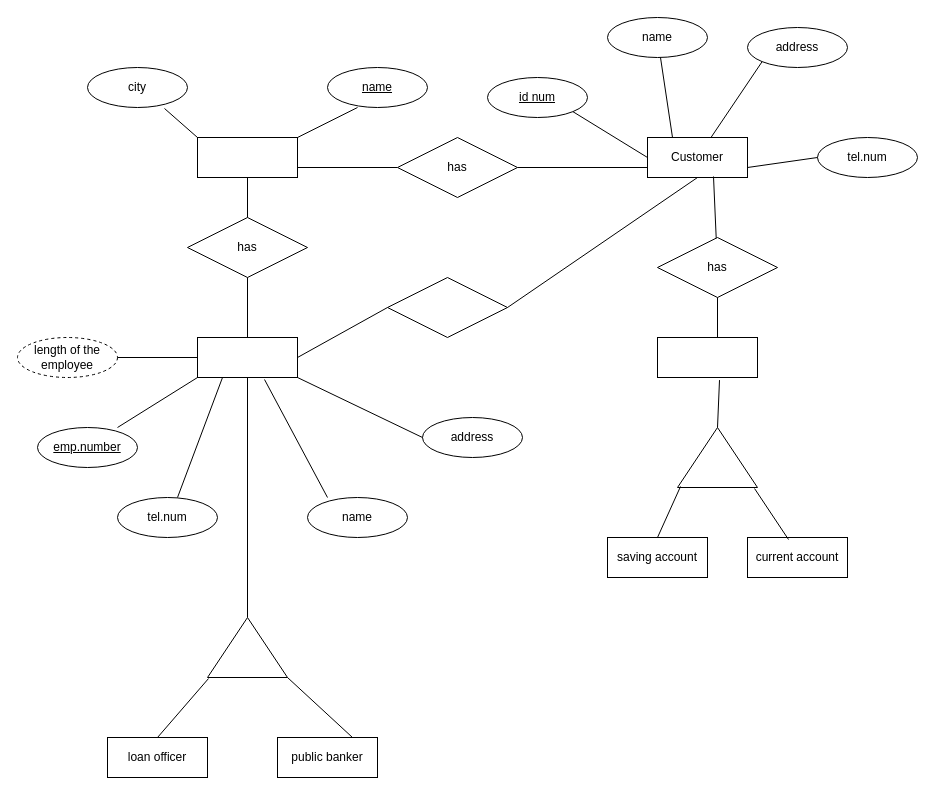
This 935x795 diagram has some shape labels left out. The centre of each missing label's shape, as x and y in pixels:
"Account" belongs at point 707,357.
"Branch" belongs at point 247,157.
"Employee" belongs at point 247,357.
"is a" belongs at point 717,457.
"is associated with" belongs at point 447,307.
"may act as" belongs at point 247,647.
